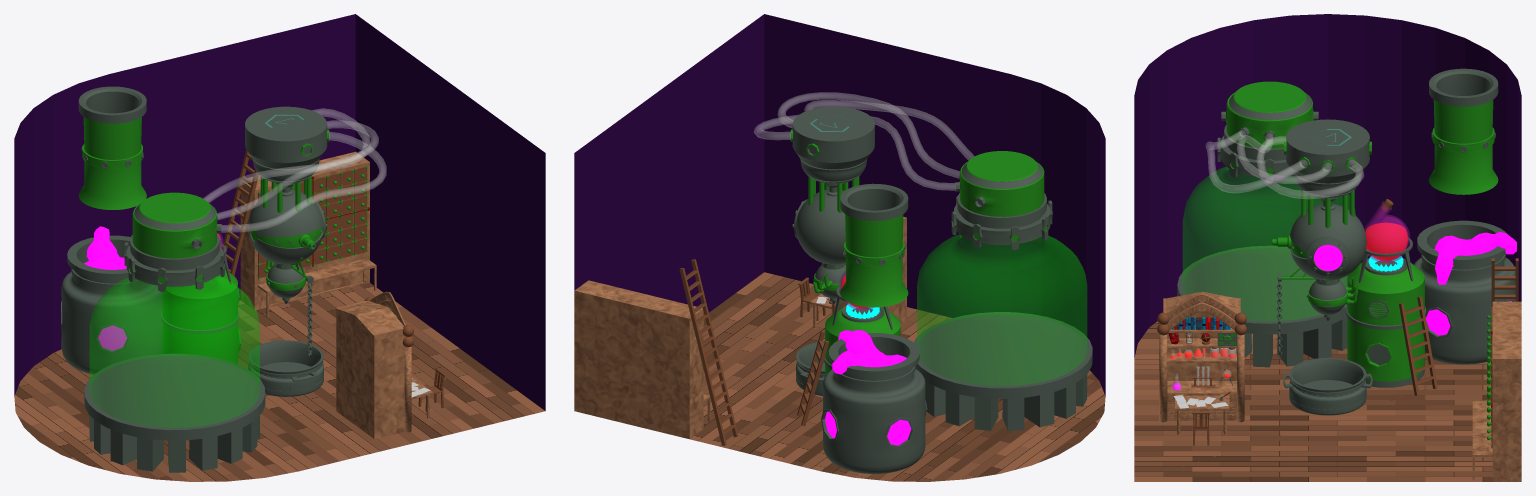
File: Laboratory_Room.glb
3 renders of one model, left to right at view 1: azimuth 30°, elevation 25°; view 2: azimuth 150°, elevation 25°; view 3: azimuth 270°, elevation 25°, orthographic.
Parts seen in each view (by area): view 1: Room, Cuve.003, Support_Cuve, Cuve.002, Bureau, Hote, Cylinder.032, Chaud, Armoir, Cylinder.008, Rangement, Cuve.001 (+8 smaller); view 2: Room, Cuve.003, Support_Cuve, Armoir, Cuve.002, Hote, Cylinder.032, Cylinder.008, Cuve.001, Echelle.001, Pipe.002, Chaud (+8 smaller); view 3: Room, Cuve.003, Support_Cuve, Cuve.002, Chaud, Hote, Bureau, Armoir, Cylinder.008, Cylinder.032, Cuve.001, Marmite (+15 smaller).
Part boxes in pixels (x1,y1,x2,y2): Room: [14, 14, 545, 481]; Cuve.003: [90, 237, 259, 427]; Support_Cuve: [84, 353, 265, 472]; Cuve.002: [61, 235, 162, 374]; Bureau: [336, 301, 411, 438]; Hote: [78, 86, 146, 209]; Cylinder.032: [130, 192, 221, 267]; Chaud: [161, 269, 241, 364]; Armoir: [240, 151, 376, 316]; Cylinder.008: [245, 106, 329, 196]; Rangement: [258, 166, 367, 278]; Cuve.001: [248, 189, 327, 264]; Room: [574, 14, 1105, 481]; Cuve.003: [917, 196, 1086, 385]; Support_Cuve: [914, 312, 1092, 430]; Armoir: [574, 280, 710, 439]; Cuve.002: [821, 333, 927, 473]; Hote: [840, 183, 908, 307]; Cylinder.032: [955, 151, 1046, 226]; Cylinder.008: [790, 106, 874, 196]; Cuve.001: [792, 189, 845, 264]; Echelle.001: [679, 259, 738, 445]; Pipe.002: [778, 92, 959, 178]; Chaud: [824, 305, 900, 375]; Room: [1134, 14, 1521, 481]; Cuve.003: [1183, 135, 1355, 321]; Support_Cuve: [1177, 245, 1347, 367]; Cuve.002: [1414, 220, 1515, 364]; Chaud: [1346, 258, 1426, 387]; Hote: [1428, 68, 1498, 194]; Bureau: [1159, 291, 1244, 422]; Armoir: [1472, 301, 1521, 481]; Cylinder.008: [1284, 119, 1371, 210]; Cylinder.032: [1221, 81, 1318, 158]; Cuve.001: [1272, 204, 1366, 280]; Marmite: [1283, 357, 1372, 415].
Bounding box in the file's own units: 5 × 3 × 4.
Materials: 23 (6 with a texture image).
